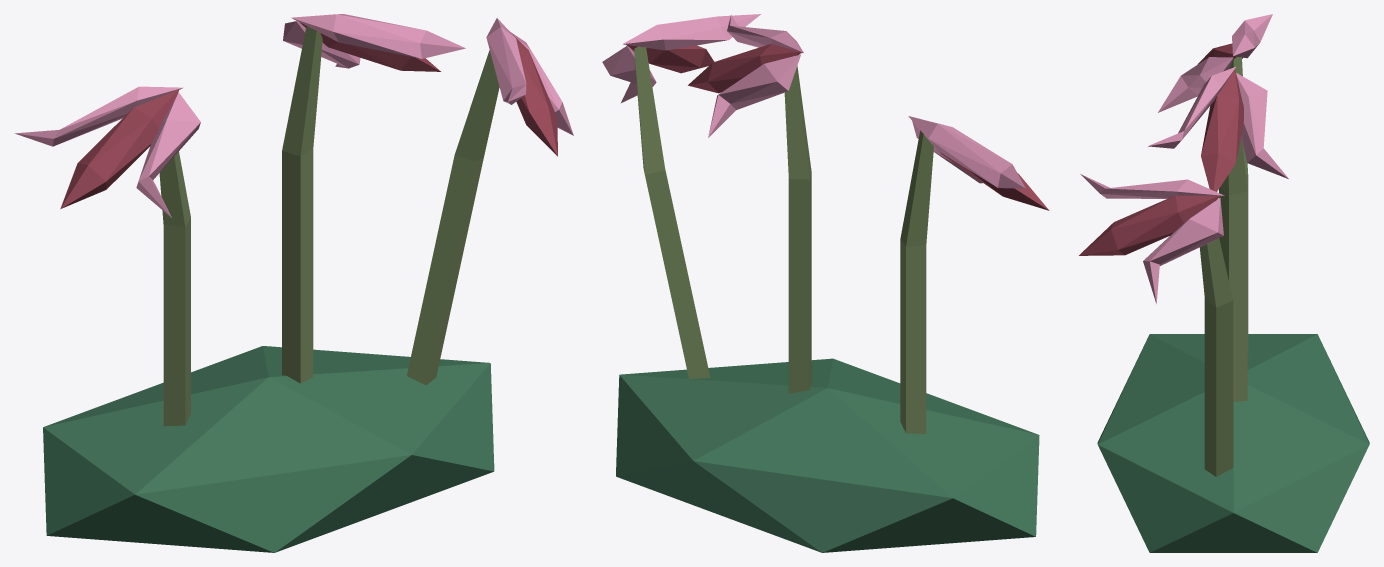
File: 009_コマクサ.fbx
3 views of the same model, side by side, from view 1: azimuth 30°, elevation 25°; view 2: azimuth 150°, elevation 25°; view 3: azimuth 270°, elevation 25° (orthographic). The views are drawn at different scales.
Parts seen in each view (by area): view 1: ICO球, 円柱.001, 円柱.002, 円柱, ICO球.001, ICO球.005, ICO球.003, ICO球.002, ICO球.007, ICO球.008, ICO球.004, ICO球.006 (+1 smaller); view 2: ICO球, 円柱, 円柱.001, 円柱.002, ICO球.002, ICO球.006, ICO球.008, ICO球.004, ICO球.007, ICO球.005, ICO球.009, ICO球.001; view 3: ICO球, 円柱.002, 円柱.001, ICO球.007, ICO球.004, ICO球.009, ICO球.006, ICO球.008, ICO球.003, ICO球.005, ICO球.002, 円柱.
Part boxes in pixels (x1,y1,x2,y2): ICO球: [43, 346, 494, 552]; 円柱.001: [282, 27, 322, 383]; 円柱.002: [407, 50, 499, 385]; 円柱: [159, 151, 190, 426]; ICO球.001: [60, 89, 178, 208]; ICO球.005: [291, 14, 465, 58]; ICO球.003: [136, 92, 200, 217]; ICO球.002: [14, 86, 182, 146]; ICO球.007: [509, 31, 557, 156]; ICO球.008: [486, 18, 526, 104]; ICO球.004: [300, 22, 440, 71]; ICO球.006: [283, 21, 360, 68]; ICO球: [616, 358, 1039, 552]; 円柱: [900, 130, 933, 433]; 円柱.001: [784, 66, 811, 393]; 円柱.002: [634, 46, 710, 378]; ICO球.002: [908, 116, 1025, 188]; ICO球.006: [708, 54, 800, 137]; ICO球.008: [622, 14, 760, 50]; ICO球.004: [688, 43, 800, 93]; ICO球.007: [626, 45, 714, 73]; ICO球.005: [727, 15, 803, 53]; ICO球.009: [602, 46, 656, 102]; ICO球.001: [940, 152, 1049, 210]; ICO球: [1097, 334, 1369, 552]; 円柱.002: [1199, 238, 1233, 476]; 円柱.001: [1220, 138, 1247, 401]; ICO球.007: [1079, 195, 1220, 255]; ICO球.004: [1201, 69, 1243, 191]; ICO球.009: [1143, 198, 1223, 303]; ICO球.006: [1236, 73, 1288, 178]; ICO球.008: [1080, 174, 1224, 198]; ICO球.003: [1158, 57, 1233, 112]; ICO球.005: [1148, 67, 1235, 148]; ICO球.002: [1232, 14, 1272, 58]; 円柱: [1219, 56, 1248, 355].
Size of the model in its own units: 360 by 348 by 200.
